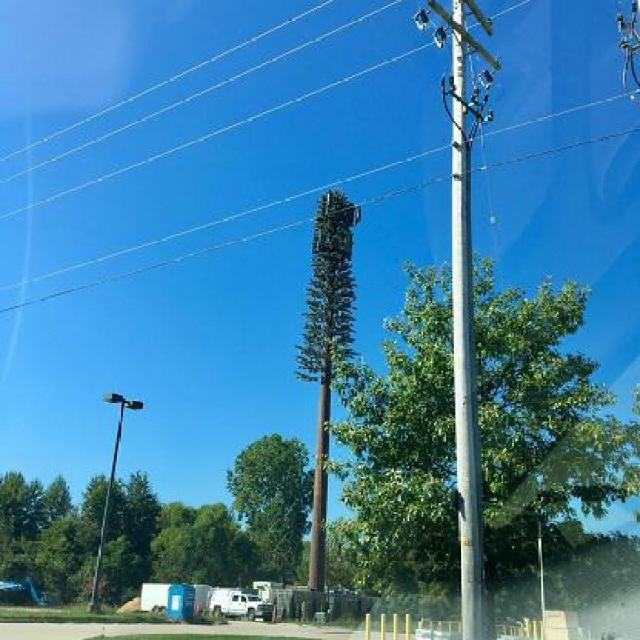pole: (406, 0, 510, 635)
